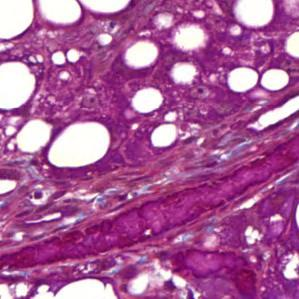steatosis: (45, 115, 115, 172), (227, 65, 263, 95), (130, 85, 167, 114), (263, 60, 292, 97)
